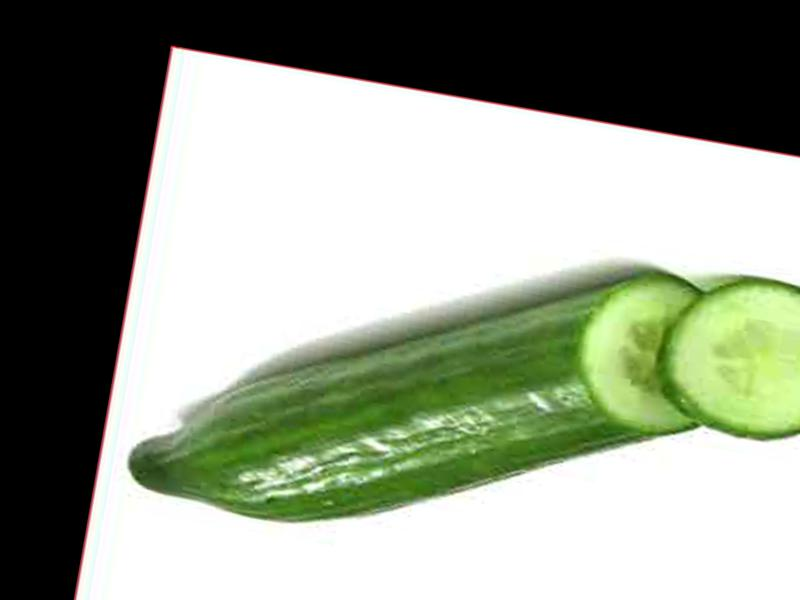Cucumber: (121, 187, 733, 591)
